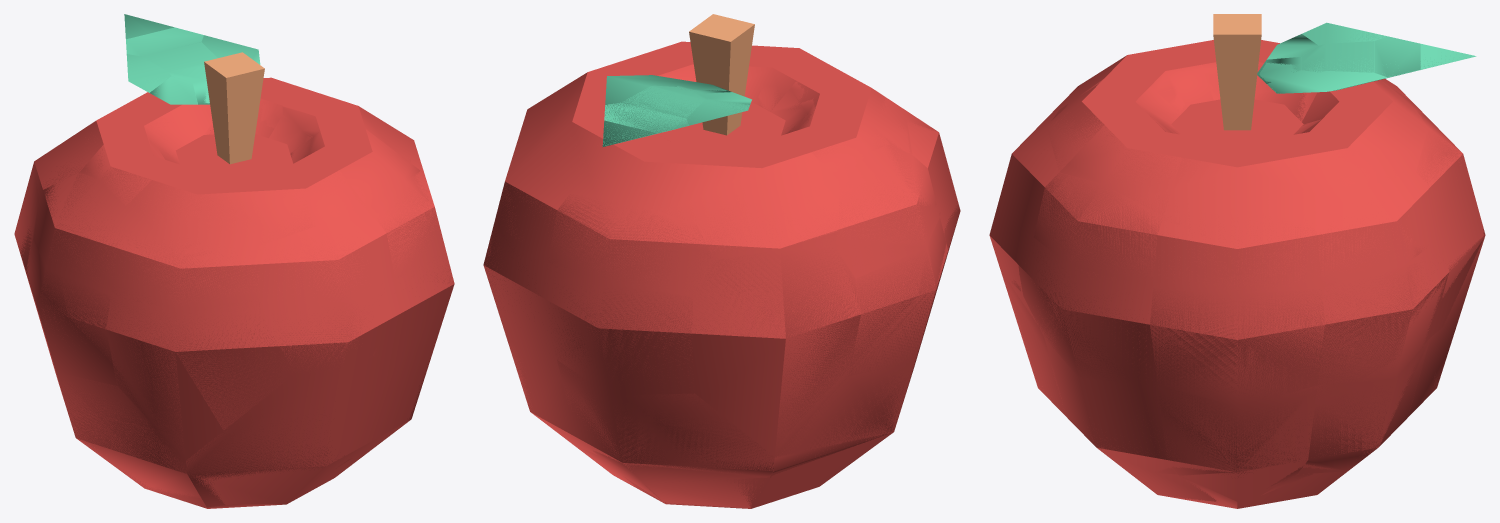
File: apple.glb
3 views of the same model, side by side, from view 1: azimuth 30°, elevation 25°; view 2: azimuth 150°, elevation 25°; view 3: azimuth 270°, elevation 25° (orthographic). The views are drawn at different scales.
Visible parts, largest first — view 1: origin, apple_cell.050, apple_cell.009, apple_cell.047, apple_cell.034, apple_cell.056, apple_cell.039, apple_cell.057, apple_cell.019, apple_cell.013, apple_cell.052, apple_cell.030 (+12 smaller); view 2: origin, apple_cell.025, apple_cell.042, apple_cell.009, apple_cell.047, apple_cell.043, apple_cell.022, apple_cell.039, apple_cell.017, apple_cell.036, apple_cell.028, apple_cell.010 (+10 smaller); view 3: origin, apple_cell.016, apple_cell.003, apple_cell.055, apple_cell.019, apple_cell.057, apple_cell.008, apple_cell.046, apple_cell.010, apple_cell.034, apple_cell.059, apple_cell.042 (+14 smaller).
Boxes of the visible parts, x1,y1,x2,y2 form: origin: (19,14,454,507); apple_cell.050: (108,296,293,459); apple_cell.009: (26,240,117,385); apple_cell.047: (50,355,200,498); apple_cell.034: (251,169,373,246); apple_cell.056: (186,375,344,507); apple_cell.039: (80,136,180,205); apple_cell.057: (337,129,409,217); apple_cell.019: (375,163,439,279); apple_cell.013: (112,232,260,312); apple_cell.052: (127,180,255,244); apple_cell.030: (261,229,382,373); origin: (483,14,959,508); apple_cell.025: (692,246,860,455); apple_cell.042: (557,360,773,483); apple_cell.009: (849,217,946,375); apple_cell.047: (770,324,926,477); apple_cell.043: (548,194,712,296); apple_cell.022: (547,262,692,393); apple_cell.039: (775,110,888,180); apple_cell.017: (839,144,936,274); apple_cell.036: (697,146,838,257); apple_cell.028: (599,456,763,508); apple_cell.010: (790,69,858,114); origin: (989,14,1483,508); apple_cell.016: (1150,288,1324,405); apple_cell.003: (1318,251,1447,384); apple_cell.055: (1157,385,1317,488); apple_cell.019: (1033,173,1162,286); apple_cell.057: (1059,124,1183,215); apple_cell.008: (1298,338,1430,474); apple_cell.046: (1018,244,1154,383); apple_cell.010: (1109,47,1204,92); apple_cell.034: (1047,78,1108,170); apple_cell.059: (1301,41,1373,72); apple_cell.042: (1408,312,1460,416).
Size of the model in its own units: 3.49 by 3.39 by 3.49.
